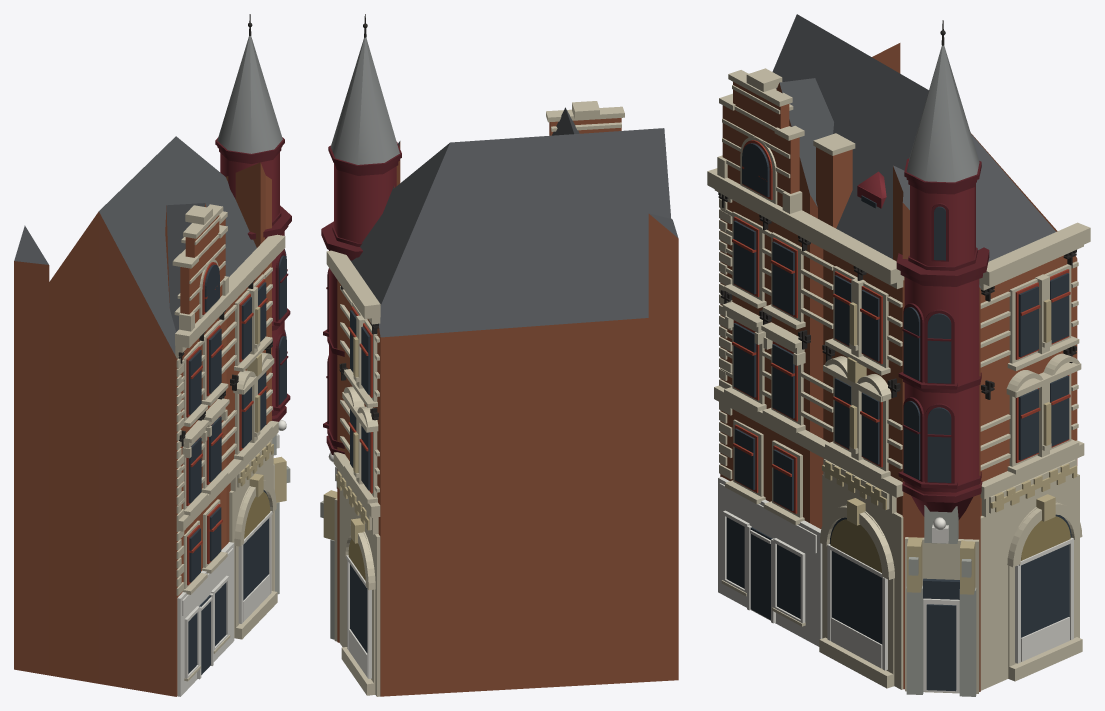
The model's file is leidsestraat-40.glb.
3 renders of one model, left to right at view 1: azimuth 30°, elevation 25°; view 2: azimuth 150°, elevation 25°; view 3: azimuth 270°, elevation 25°, orthographic. The views are drawn at different scales.
Parts seen in each view (by area): view 1: leidsestraat-40; view 2: leidsestraat-40; view 3: leidsestraat-40.
Part boxes in pixels (x1,y1,x2,y2): leidsestraat-40: [14, 14, 291, 696]; leidsestraat-40: [320, 14, 678, 696]; leidsestraat-40: [707, 14, 1090, 696].
Bounding box in the file's own units: 10.24 × 18.8 × 9.8.
